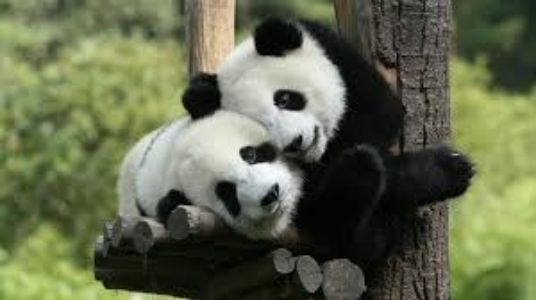bear: (105, 88, 295, 241), (206, 19, 395, 155)
